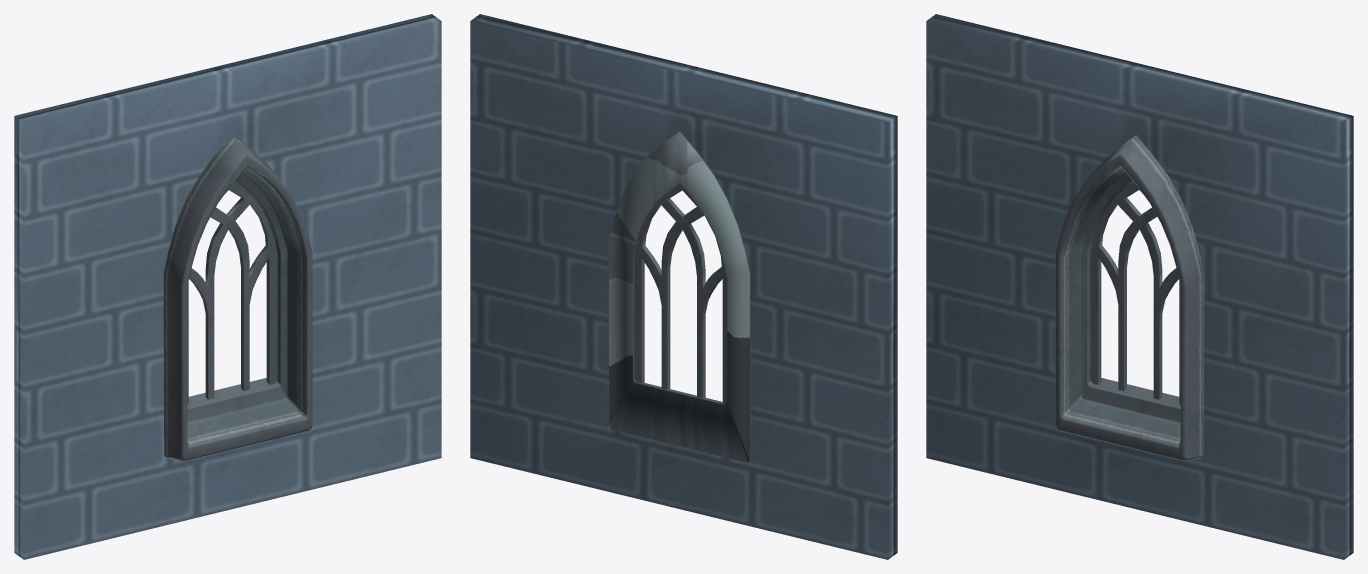
Rendered from Wall_WindowSmall.fbx.
3 views of the same model, side by side, from view 1: azimuth 30°, elevation 25°; view 2: azimuth 150°, elevation 25°; view 3: azimuth 330°, elevation 25° (orthographic).
Parts seen in each view (by area): view 1: Wall_WindowSmall; view 2: Wall_WindowSmall; view 3: Wall_WindowSmall.
Boxes of the visible parts, <box> form: Wall_WindowSmall: <box>14,14,441,559</box>; Wall_WindowSmall: <box>470,14,897,559</box>; Wall_WindowSmall: <box>926,14,1353,559</box>.
Bounding box in the file's own units: 500 × 500 × 50.38.
Materials: 3 (3 with a texture image).
